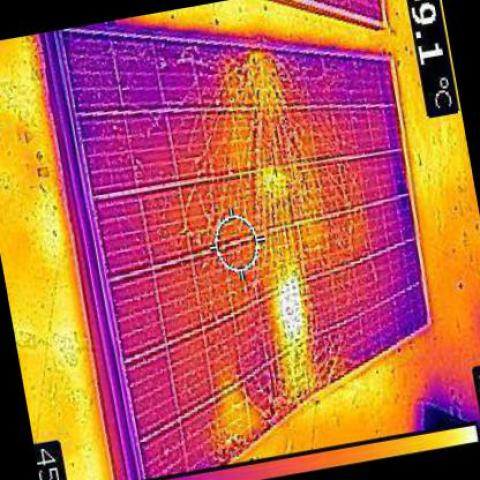fault: (277, 277, 311, 348)
